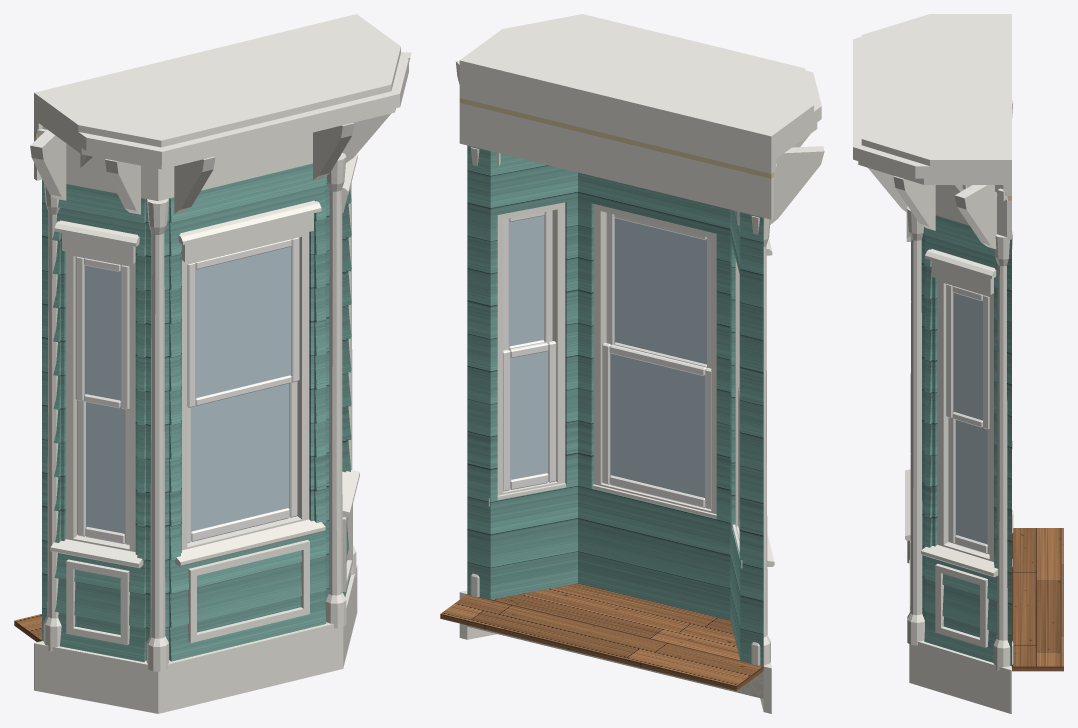
Rendered from bay_u_c.glb.
3 renders of one model, left to right at view 1: azimuth 30°, elevation 25°; view 2: azimuth 150°, elevation 25°; view 3: azimuth 270°, elevation 25°, orthographic. The views are drawn at different scales.
Visible parts, largest first — view 1: bay_u_c_trim, bay_u_c_siding_c, bay_u_c_glass, bay_u_c_sash, bay_u_c_frame; view 2: bay_u_c_siding_c, bay_u_c_trim, bay_u_c_glass, bay_u_c_floor, bay_u_c_frame, bay_u_c_sash, bay_u_c_acc_c, bay_u_c_plaster; view 3: bay_u_c_trim, bay_u_c_siding_c, bay_u_c_floor, bay_u_c_glass, bay_u_c_frame, bay_u_c_sash.
Boxes of the visible parts, x1,y1,x2,y2 form: bay_u_c_trim: (30,14,411,713); bay_u_c_siding_c: (42,152,351,661); bay_u_c_glass: (84,246,290,533); bay_u_c_sash: (75,237,299,545); bay_u_c_frame: (65,213,342,551); bay_u_c_siding_c: (467,145,763,666); bay_u_c_trim: (455,14,824,713); bay_u_c_glass: (509,215,706,497); bay_u_c_floor: (440,583,763,690); bay_u_c_frame: (497,202,739,540); bay_u_c_sash: (503,210,739,530); bay_u_c_acc_c: (459,98,773,178); bay_u_c_plaster: (467,625,763,698); bay_u_c_trim: (853,14,1013,713); bay_u_c_siding_c: (921,215,1011,666); bay_u_c_floor: (1012,528,1063,671); bay_u_c_glass: (953,292,987,544); bay_u_c_frame: (937,278,993,561); bay_u_c_sash: (946,283,989,554).
Size of the model in its own units: 2.37 by 3.54 by 1.22.
8 materials, 3 textured.
